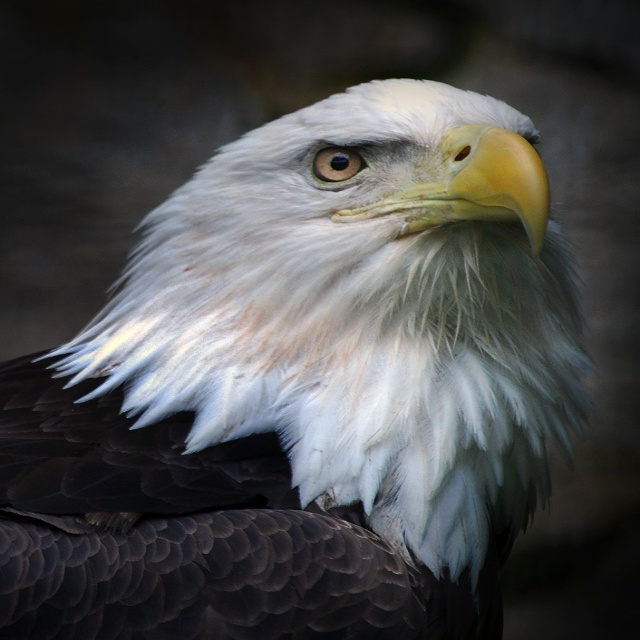Eagle: (0, 78, 604, 639)
